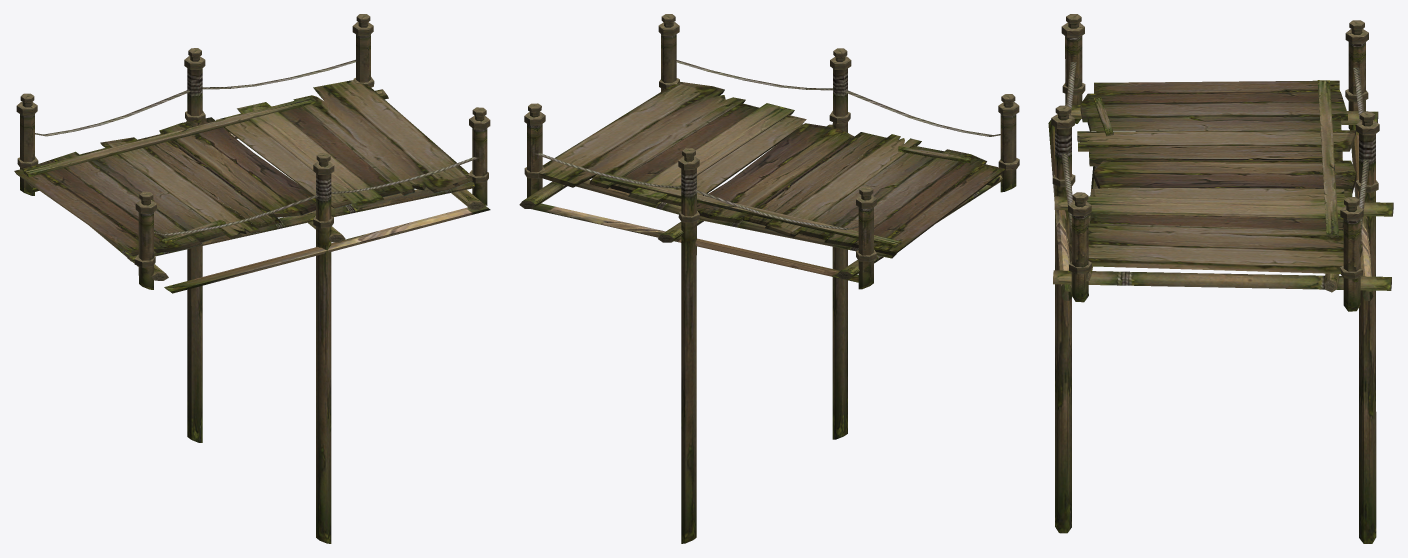
Rendered from DBXJ_04.FBX.
3 views of the same model, side by side, from view 1: azimuth 30°, elevation 25°; view 2: azimuth 150°, elevation 25°; view 3: azimuth 270°, elevation 25° (orthographic). The views are drawn at different scales.
Visible parts, largest first — view 1: DBXJ_04; view 2: DBXJ_04; view 3: DBXJ_04.
Part boxes in pixels (left/top/right/bottom): DBXJ_04: left=14, top=14, right=490, bottom=543; DBXJ_04: left=519, top=14, right=1019, bottom=543; DBXJ_04: left=1048, top=14, right=1393, bottom=543.
Bounding box in the file's own units: 22.84 × 23.12 × 16.95.
Materials: 1 (1 with a texture image).
